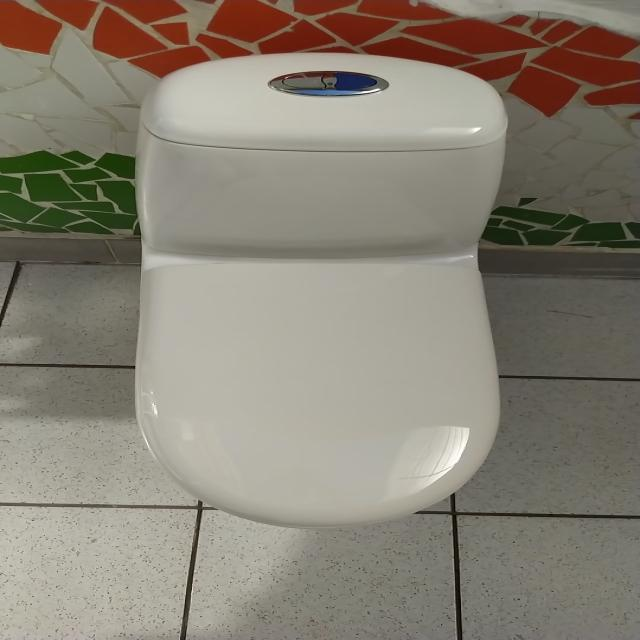toilet: (128, 46, 522, 536)
